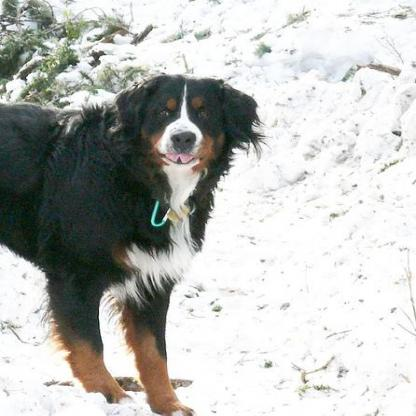Bernese_mountain_dog: (0, 72, 268, 413)
